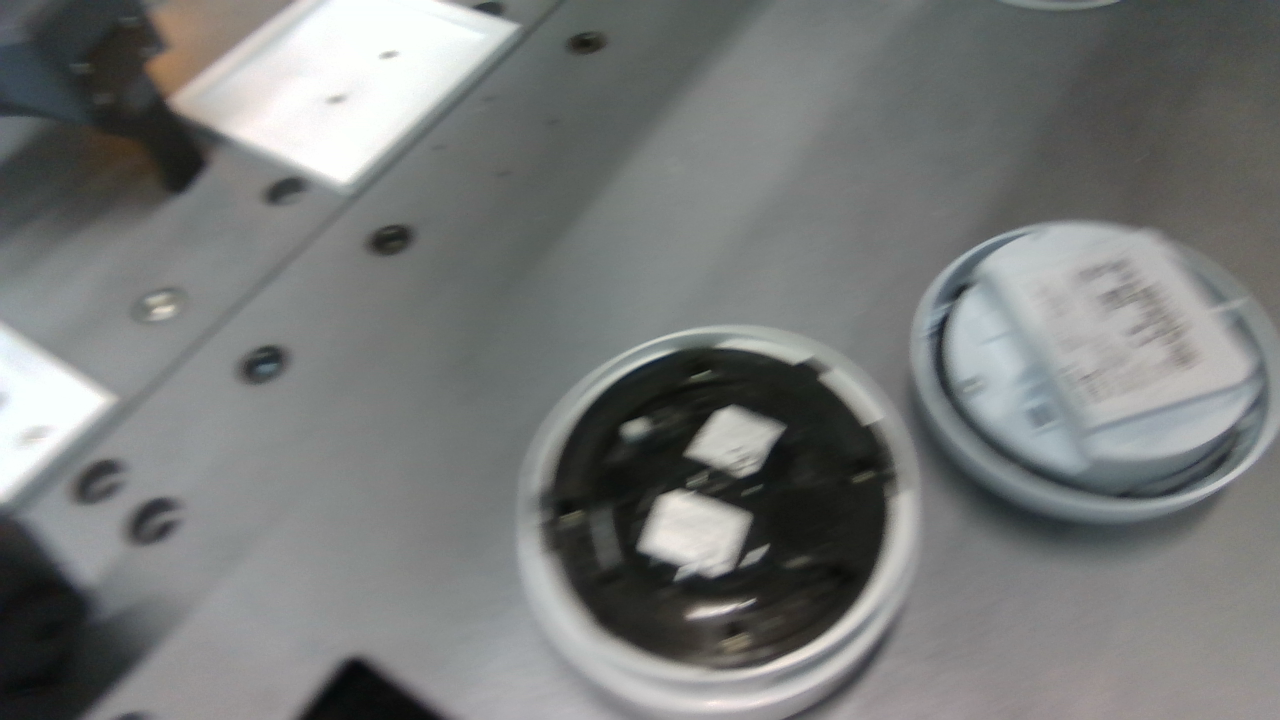HexScrew: (715, 628, 754, 653), (854, 462, 878, 486), (688, 363, 712, 381), (961, 378, 984, 394)
